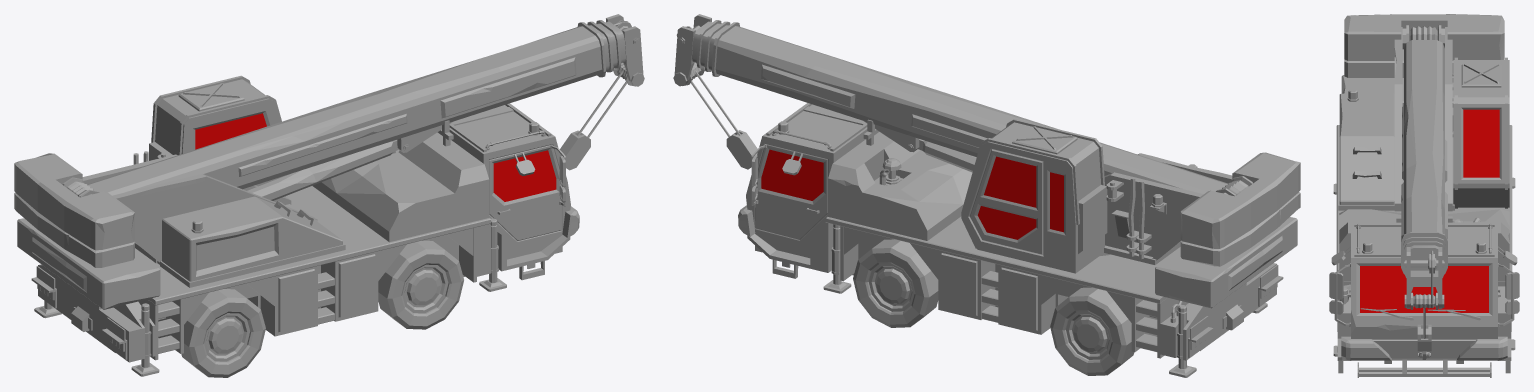
The model's file is SK_Veh_Crane_01.fbx.
The picture shows the model from 3 angles, left to right: view 1: azimuth 30°, elevation 25°; view 2: azimuth 150°, elevation 25°; view 3: azimuth 270°, elevation 25°; orthographic projection. The views are drawn at different scales.
Visible parts, largest first — view 1: SK_Veh_Crane_01, SK_Veh_Crane_01_Top, SK_Veh_Crane_01_Arm_01, SK_Veh_Crane_01_Wheel_fr, SK_Veh_Crane_01_Wheel_rr, SK_Veh_Crane_01_Glass, SK_Veh_Crane_01_Arm_04, SK_Veh_Crane_01_Top_Glass, SK_Bld_Crane_Hook_01, SK_Veh_Crane_01_Leg_rr_Shaft, SK_Veh_Crane_01_Leg_fr_Shaft; view 2: SK_Veh_Crane_01, SK_Veh_Crane_01_Top, SK_Veh_Crane_01_Arm_01, SK_Veh_Crane_01_Wheel_fl, SK_Veh_Crane_01_Wheel_rl, SK_Veh_Crane_01_Top_Glass, SK_Veh_Crane_01_Glass, SK_Veh_Crane_01_Arm_04, SK_Bld_Crane_Hook_01, SK_Veh_Crane_01_Leg_rl_Shaft, SK_Veh_Crane_01_Leg_fl_Shaft; view 3: SK_Veh_Crane_01_Top, SK_Veh_Crane_01, SK_Veh_Crane_01_Arm_01, SK_Veh_Crane_01_Glass, SK_Veh_Crane_01_Top_Glass, SK_Veh_Crane_01_Arm_04, SK_Bld_Crane_Hook_01, SK_Veh_Crane_01_Arm_03, SK_Veh_Crane_01_Arm_02.
Boxes of the visible parts, x1,y1,x2,y2 form: SK_Veh_Crane_01: (17, 103, 579, 362); SK_Veh_Crane_01_Top: (14, 75, 345, 287); SK_Veh_Crane_01_Arm_01: (87, 22, 605, 200); SK_Veh_Crane_01_Wheel_fr: (378, 240, 463, 329); SK_Veh_Crane_01_Wheel_rr: (181, 289, 265, 377); SK_Veh_Crane_01_Glass: (493, 150, 556, 201); SK_Veh_Crane_01_Arm_04: (605, 14, 644, 86); SK_Veh_Crane_01_Top_Glass: (195, 113, 266, 149); SK_Bld_Crane_Hook_01: (560, 130, 590, 170); SK_Veh_Crane_01_Leg_rr_Shaft: (131, 303, 159, 376); SK_Veh_Crane_01_Leg_fr_Shaft: (479, 218, 506, 291); SK_Veh_Crane_01: (738, 103, 1297, 360); SK_Veh_Crane_01_Top: (961, 119, 1300, 273); SK_Veh_Crane_01_Arm_01: (711, 22, 1227, 193); SK_Veh_Crane_01_Wheel_fl: (853, 239, 938, 327); SK_Veh_Crane_01_Wheel_rl: (1050, 287, 1134, 375); SK_Veh_Crane_01_Top_Glass: (977, 156, 1063, 239); SK_Veh_Crane_01_Glass: (761, 149, 823, 200); SK_Veh_Crane_01_Arm_04: (673, 14, 712, 86); SK_Bld_Crane_Hook_01: (726, 130, 757, 169); SK_Veh_Crane_01_Leg_rl_Shaft: (1169, 305, 1196, 377); SK_Veh_Crane_01_Leg_fl_Shaft: (823, 224, 851, 293); SK_Veh_Crane_01_Top: (1338, 14, 1509, 211); SK_Veh_Crane_01: (1329, 75, 1519, 377); SK_Veh_Crane_01_Arm_01: (1401, 40, 1447, 273); SK_Veh_Crane_01_Glass: (1360, 266, 1488, 312); SK_Veh_Crane_01_Top_Glass: (1463, 109, 1499, 177); SK_Veh_Crane_01_Arm_04: (1404, 245, 1444, 309); SK_Bld_Crane_Hook_01: (1417, 324, 1431, 359); SK_Veh_Crane_01_Arm_03: (1404, 241, 1444, 277); SK_Veh_Crane_01_Arm_02: (1403, 237, 1445, 271).
Bounding box in the file's own units: 1183 × 422 × 349.
